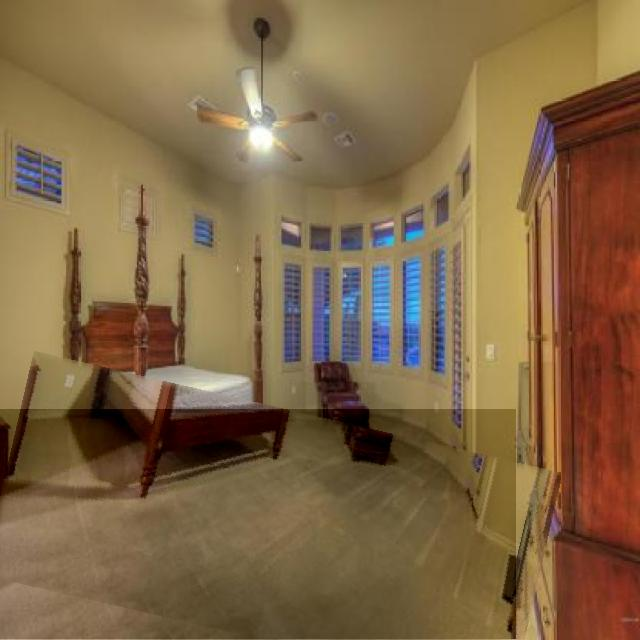floor: (0, 409, 516, 640)
